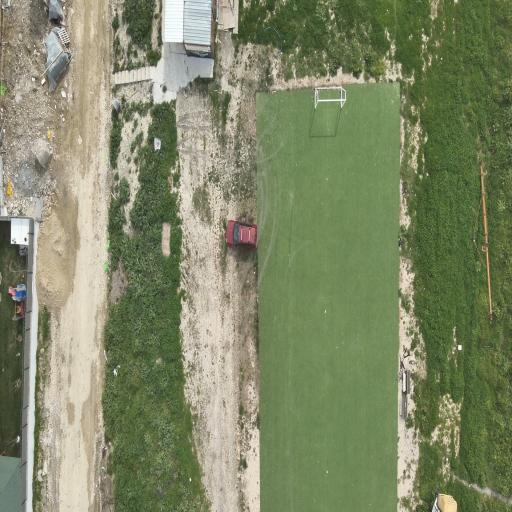car: (226, 221, 257, 248)
